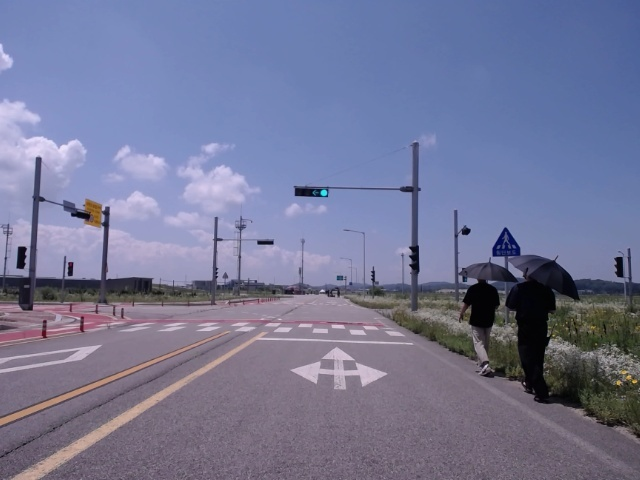all_green_4: (298, 188, 328, 198)
